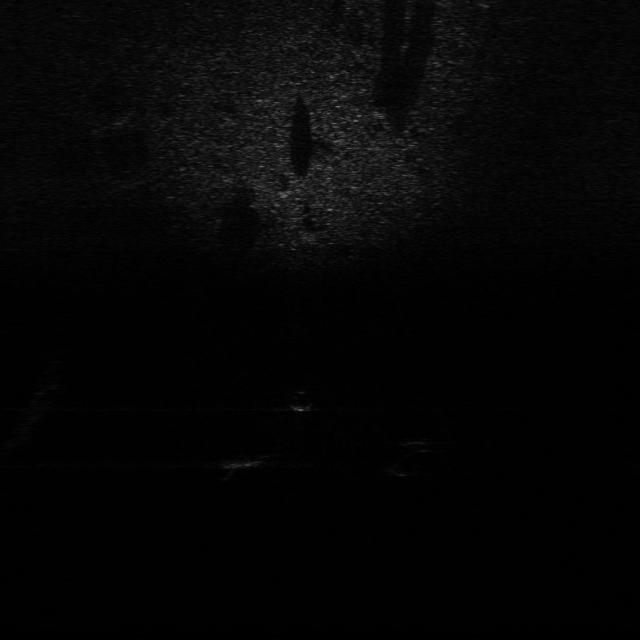ball: (283, 390, 323, 415)
square cage: (220, 448, 280, 472)
tyre: (383, 442, 443, 477)
